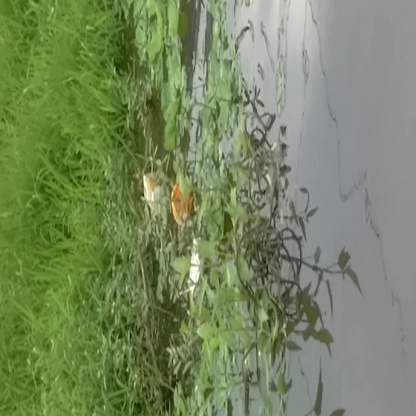grass: (8, 10, 133, 139)
